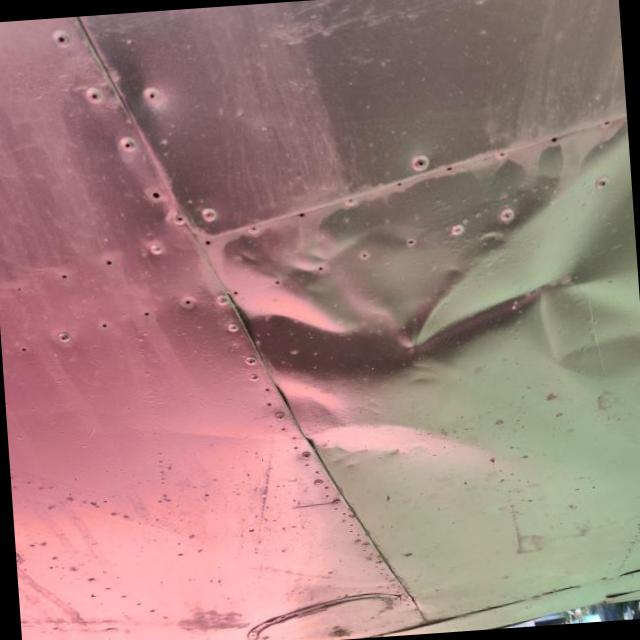Dent: (201, 116, 640, 618)
